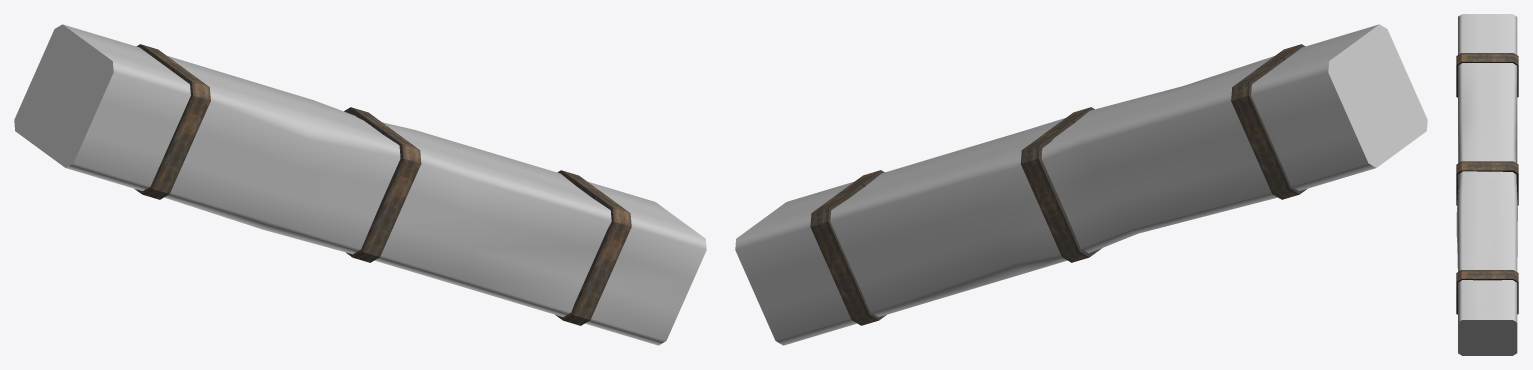
The picture shows the model from 3 angles, left to right: view 1: azimuth 30°, elevation 25°; view 2: azimuth 150°, elevation 25°; view 3: azimuth 270°, elevation 25°; orthographic projection. The views are drawn at different scales.
Parts seen in each view (by area): view 1: SM_BB_T3_Extended_Beam_Thick_Large_Shallow_LOD0; view 2: SM_BB_T3_Extended_Beam_Thick_Large_Shallow_LOD0; view 3: SM_BB_T3_Extended_Beam_Thick_Large_Shallow_LOD0.
Boxes of the visible parts, x1,y1,x2,y2 form: SM_BB_T3_Extended_Beam_Thick_Large_Shallow_LOD0: (14, 24, 706, 345); SM_BB_T3_Extended_Beam_Thick_Large_Shallow_LOD0: (735, 24, 1427, 345); SM_BB_T3_Extended_Beam_Thick_Large_Shallow_LOD0: (1456, 14, 1518, 355).
Bounding box in the file's own units: 3.24 × 2.02 × 0.5482.
